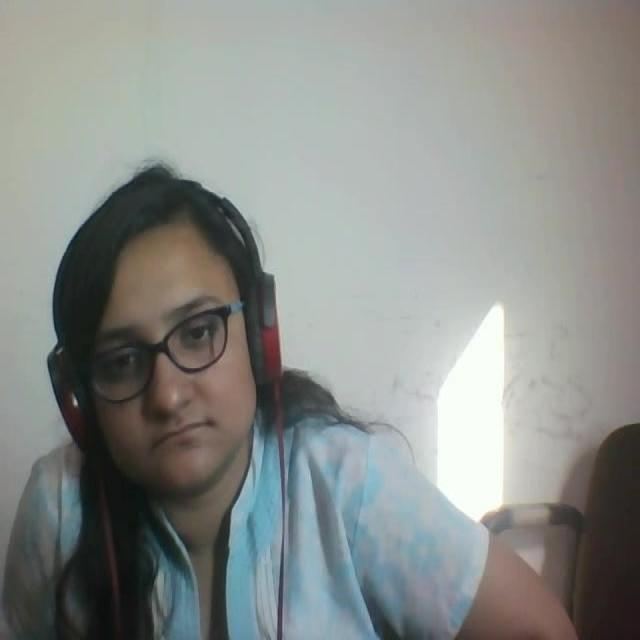Bored: (32, 152, 326, 531)
